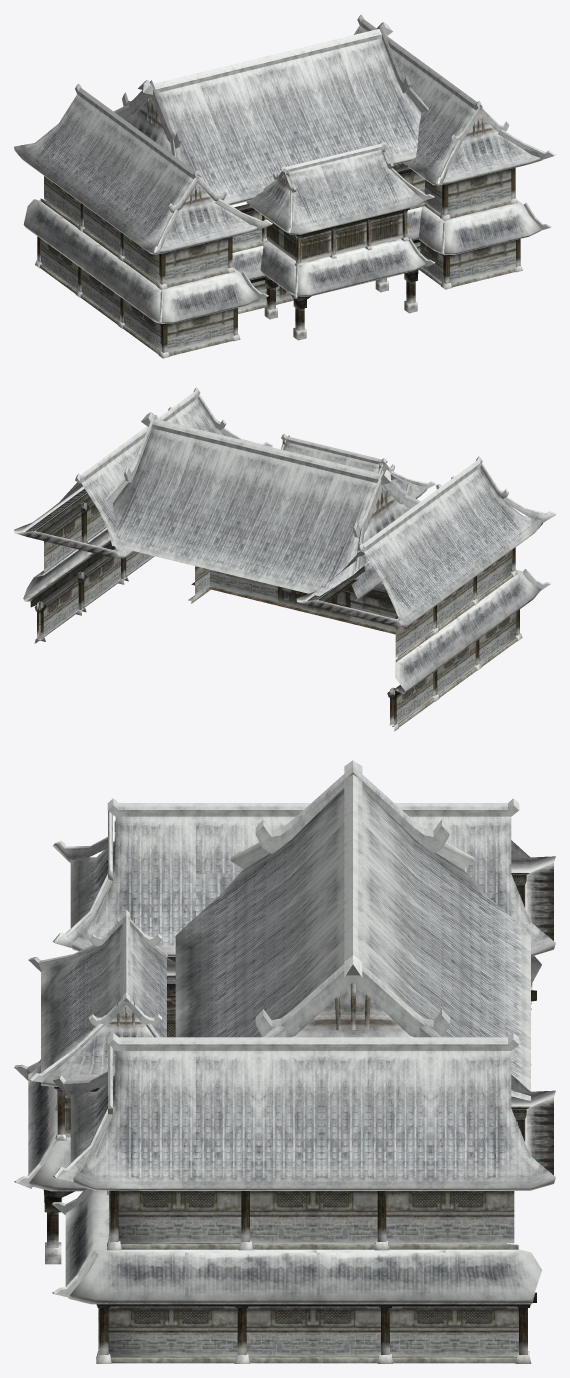
File: snow-006-castle.fbx
The picture shows the model from 3 angles, top to bottom: view 1: azimuth 30°, elevation 25°; view 2: azimuth 150°, elevation 25°; view 3: azimuth 270°, elevation 25°; orthographic projection. The views are drawn at different scales.
Parts seen in each view (by area): view 1: snow-006-castle-02, snow-006-castle-04, snow-006-castle-01, snow-006-castle-03, snow-006-castle-05; view 2: snow-006-castle-02, snow-006-castle-04, snow-006-castle-01, snow-006-castle-03; view 3: snow-006-castle-02, snow-006-castle-04, snow-006-castle-01, snow-006-castle-03, snow-006-castle-05.
Part boxes in pixels (x1,y1,x2,y2): snow-006-castle-02: (14, 14, 542, 267); snow-006-castle-04: (35, 163, 550, 358); snow-006-castle-01: (23, 199, 541, 323); snow-006-castle-03: (114, 24, 555, 262); snow-006-castle-05: (264, 269, 418, 340); snow-006-castle-02: (14, 387, 542, 627); snow-006-castle-04: (30, 498, 550, 731); snow-006-castle-01: (23, 528, 541, 694); snow-006-castle-03: (105, 394, 555, 571); snow-006-castle-02: (28, 760, 555, 1190); snow-006-castle-04: (14, 886, 536, 1363); snow-006-castle-01: (28, 956, 541, 1304); snow-006-castle-03: (52, 766, 474, 1181); snow-006-castle-05: (43, 1189, 74, 1264).
Bounding box in the file's own units: 30.4 × 15.08 × 20.84.
